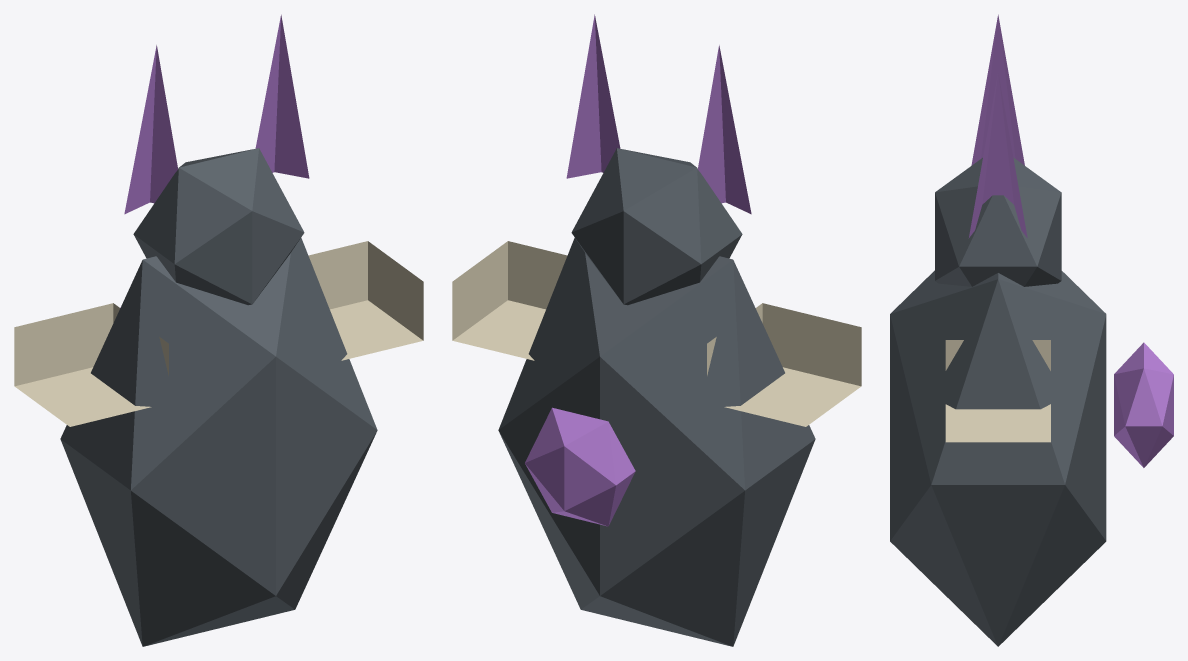
The model's file is enemy_elite.glb.
3 views of the same model, side by side, from view 1: azimuth 30°, elevation 25°; view 2: azimuth 150°, elevation 25°; view 3: azimuth 270°, elevation 25° (orthographic). The views are drawn at different scales.
Visible parts, largest first — view 1: armor, head, pauldron_-1, pauldron_1, antler_1, antler_-1; view 2: armor, head, pauldron_-1, pauldron_1, chest_core, antler_1, antler_-1; view 3: armor, head, chest_core, pauldron_1, antler_1, antler_-1.
Part boxes in pixels (bbox=[...]): armor: bbox=[60, 238, 377, 646]; head: bbox=[133, 148, 304, 305]; pauldron_-1: bbox=[14, 303, 168, 426]; pauldron_1: bbox=[308, 241, 423, 360]; antler_1: bbox=[255, 14, 309, 178]; antler_-1: bbox=[124, 45, 178, 214]; armor: bbox=[498, 238, 815, 646]; head: bbox=[571, 148, 742, 305]; pauldron_-1: bbox=[707, 303, 861, 426]; pauldron_1: bbox=[452, 241, 567, 360]; chest_core: bbox=[525, 407, 635, 526]; antler_1: bbox=[566, 14, 620, 178]; antler_-1: bbox=[697, 45, 751, 214]; armor: bbox=[890, 270, 1106, 646]; head: bbox=[935, 157, 1061, 286]; chest_core: bbox=[1114, 342, 1173, 467]; pauldron_1: bbox=[945, 340, 1050, 442]; antler_1: bbox=[968, 72, 1027, 238]; antler_-1: bbox=[971, 14, 1024, 165].
Size of the model in its own units: 1.25 by 2.02 by 0.9161.
